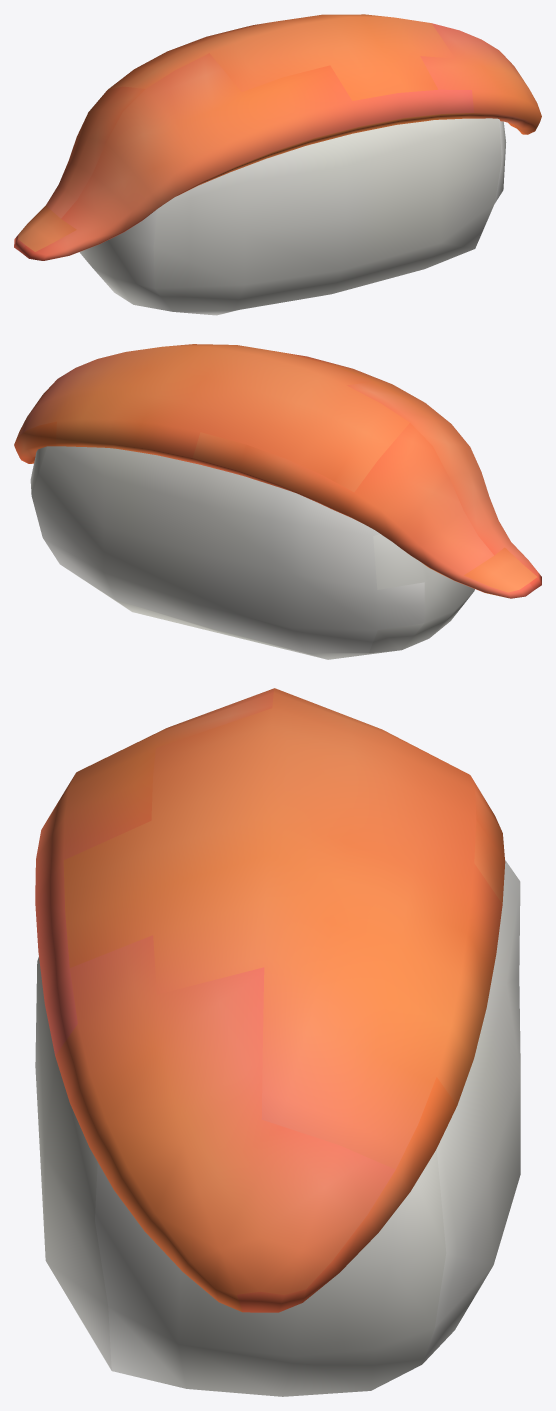
The model's file is sushi.glb.
The picture shows the model from 3 angles, top to bottom: view 1: azimuth 30°, elevation 25°; view 2: azimuth 150°, elevation 25°; view 3: azimuth 270°, elevation 25°; orthographic projection. The views are drawn at different scales.
Visible parts, largest first — view 1: sushi_Material_0; view 2: sushi_Material_0; view 3: sushi_Material_0.
Boxes of the visible parts, x1,y1,x2,y2 form: sushi_Material_0: [14, 14, 541, 315]; sushi_Material_0: [14, 344, 541, 659]; sushi_Material_0: [35, 688, 520, 1396].
Size of the model in its own units: 1 by 0.4686 by 0.4137.
Materials: 1 (1 with a texture image).
